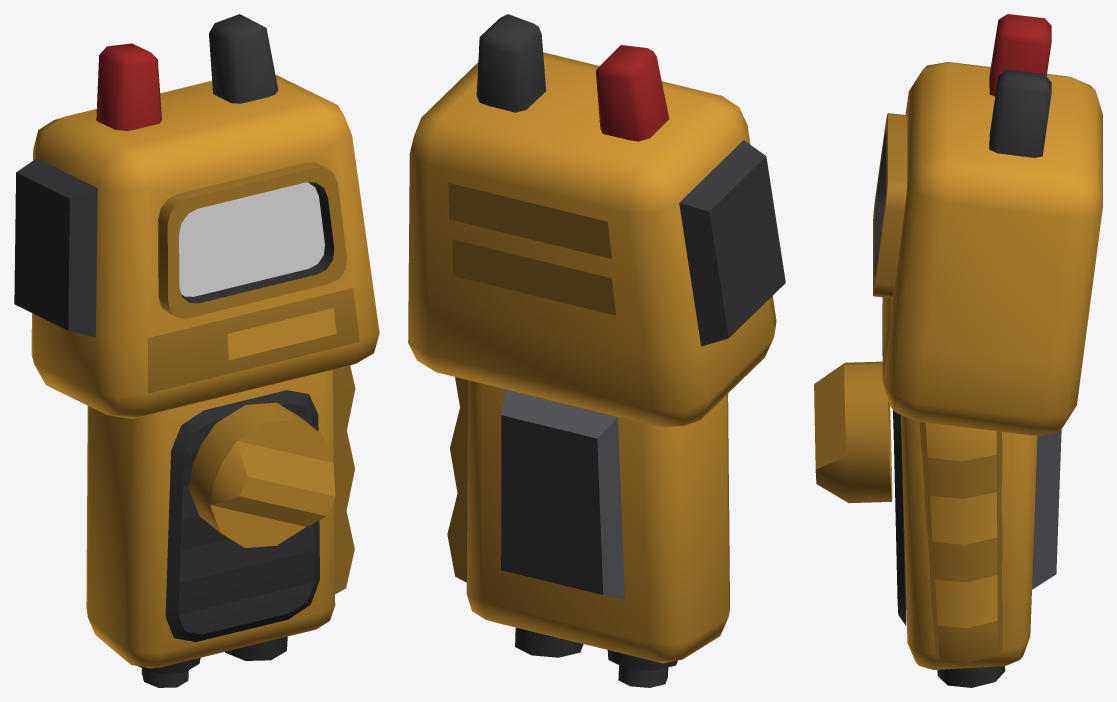
File: multitool.glb
The picture shows the model from 3 angles, left to right: view 1: azimuth 30°, elevation 25°; view 2: azimuth 150°, elevation 25°; view 3: azimuth 270°, elevation 25°; orthographic projection. The views are drawn at different scales.
Visible parts, largest first — view 1: MultitoolV3; view 2: MultitoolV3; view 3: MultitoolV3.
Boxes of the visible parts, <box> form: MultitoolV3: <box>14,14,379,687</box>; MultitoolV3: <box>408,14,785,687</box>; MultitoolV3: <box>814,14,1102,687</box>.
Size of the model in its own units: 0.2375 by 0.4638 by 0.1967.
Materials: 2 (1 with a texture image).
